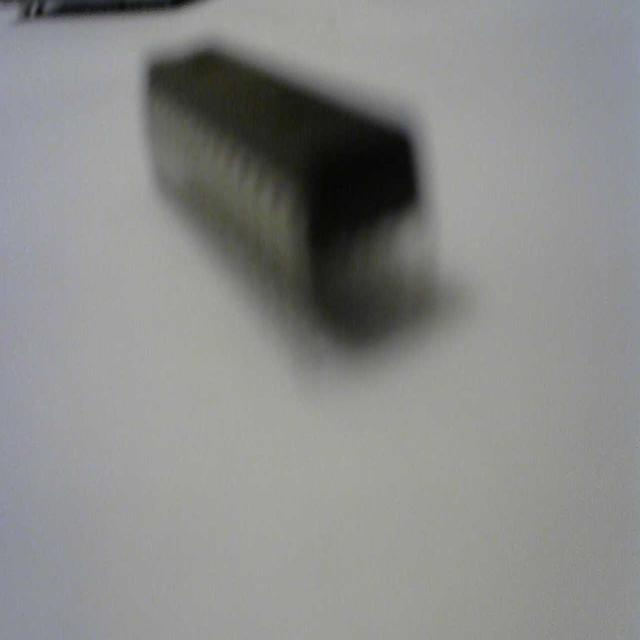atmega: (140, 36, 448, 356)
